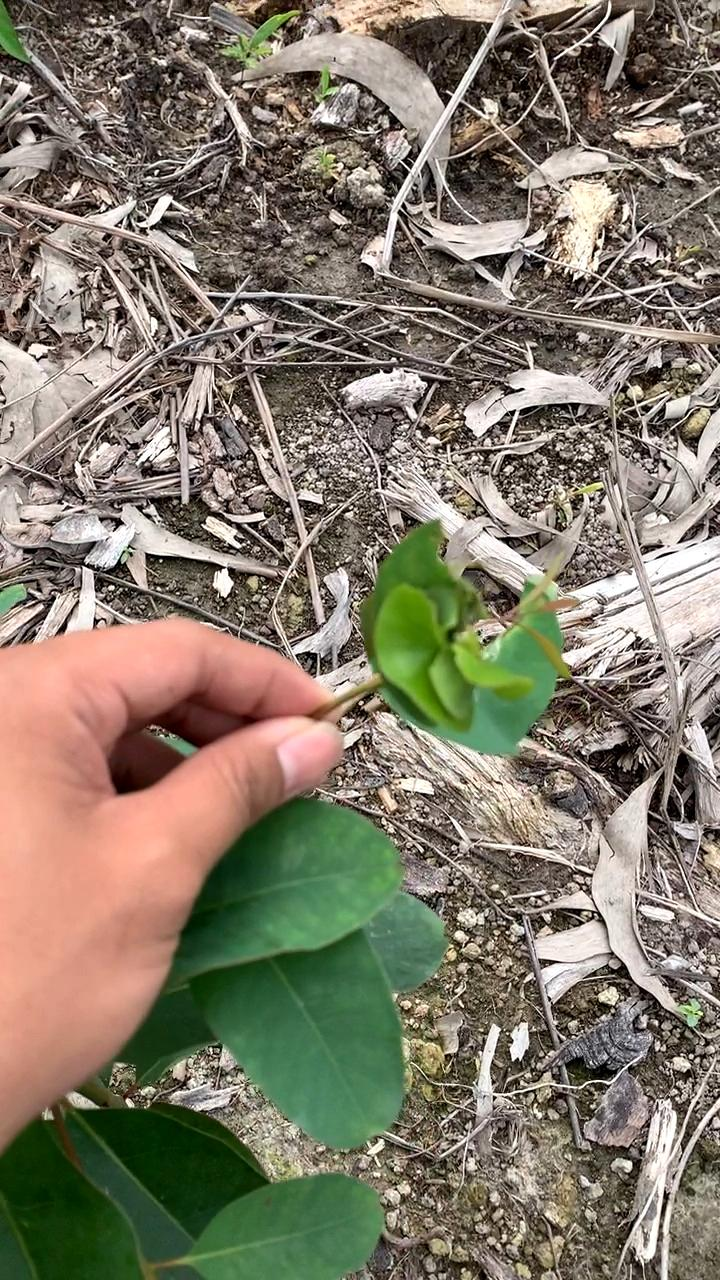Leaf Roller - Leaf: (336, 511, 569, 776)
